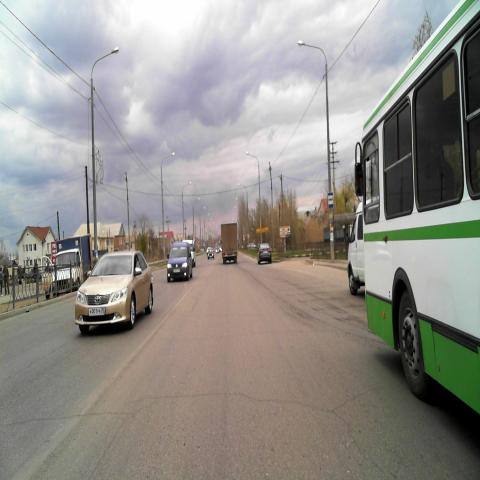5_16: (328, 192, 334, 209)
